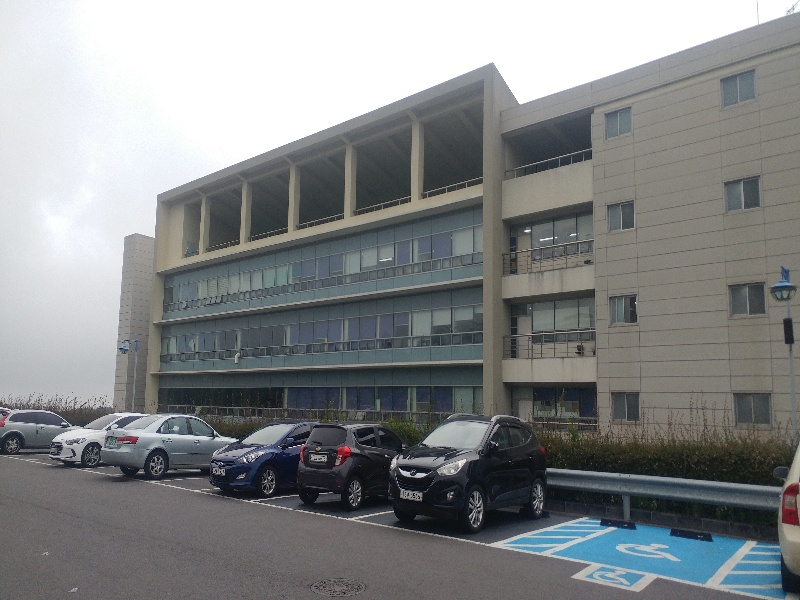Engineering College Building 4: (62, 14, 800, 410), (139, 101, 779, 400)
